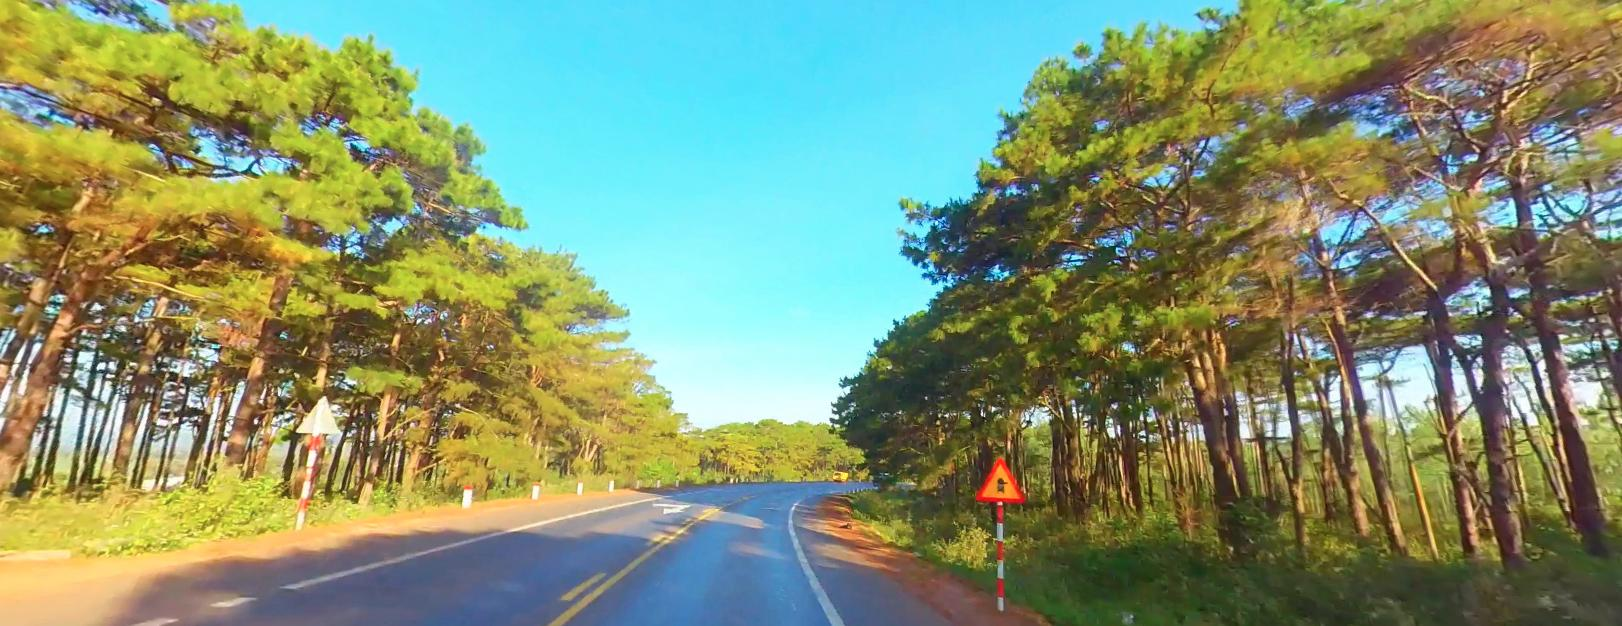Nguy hiem: (973, 454, 1026, 503)
